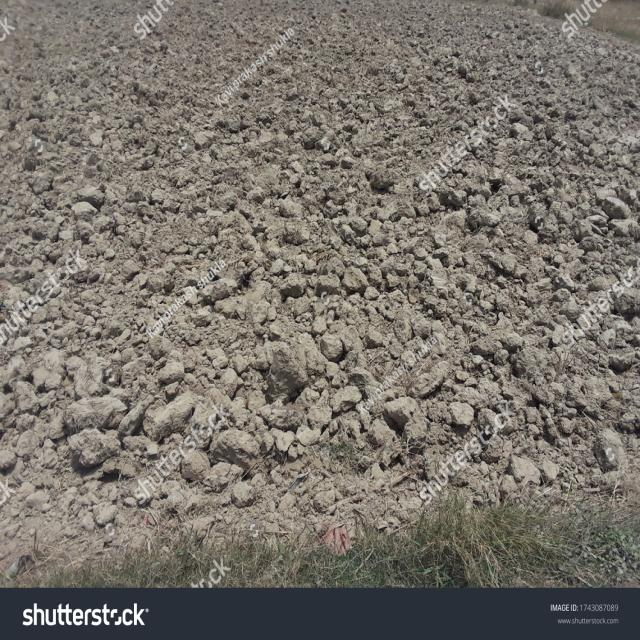Alluvial Soil: (38, 28, 264, 451), (357, 49, 583, 385)
